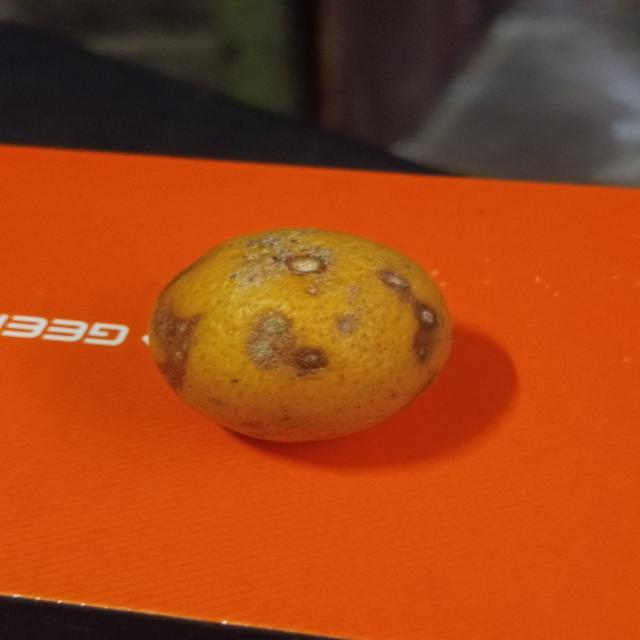black spot: (144, 217, 460, 435)
